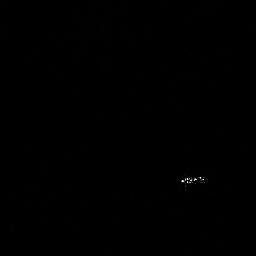ship: (179, 174, 208, 187)
